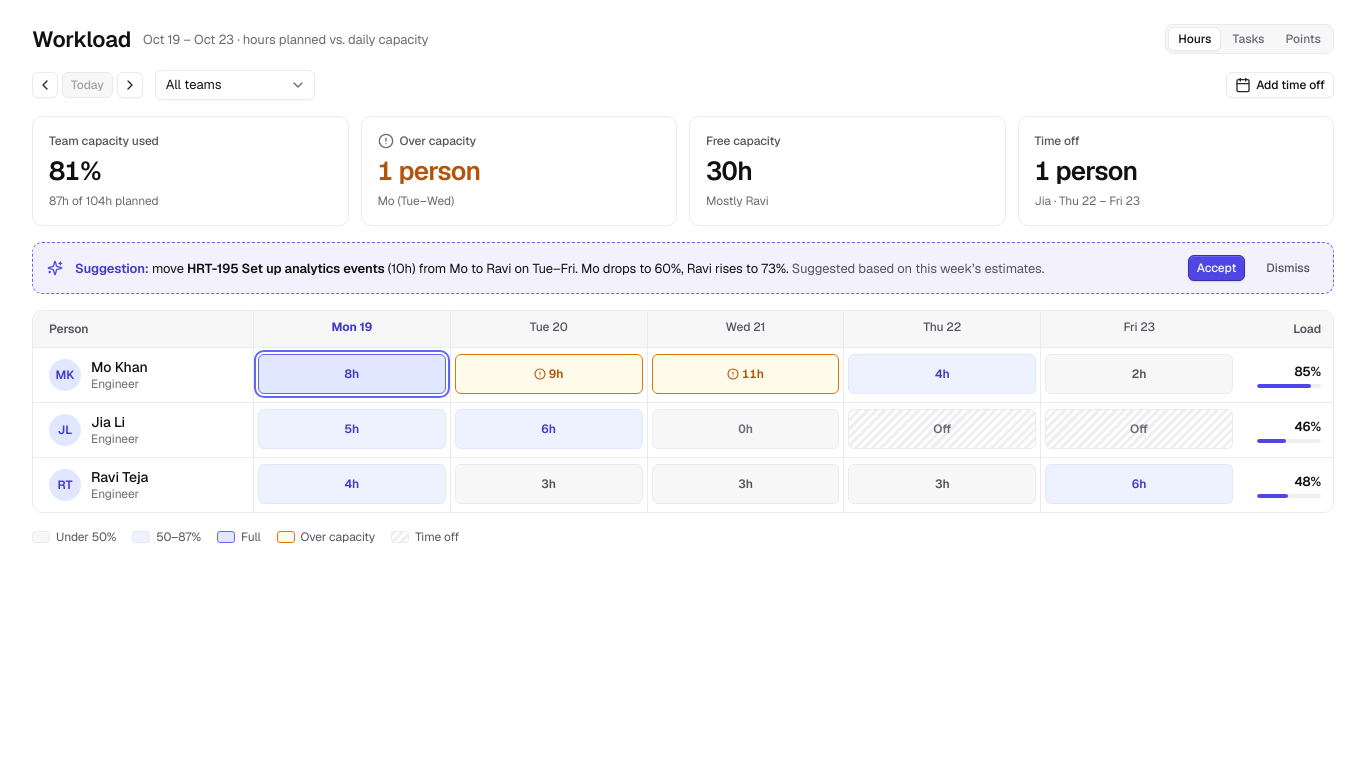
WorkloadPage › moves focus with arrow keys and opens the day’s tasks with Enter
Press ArrowRight in the button named "Mon 19: 8 of 8 hours planned", box [258,354,446,394]
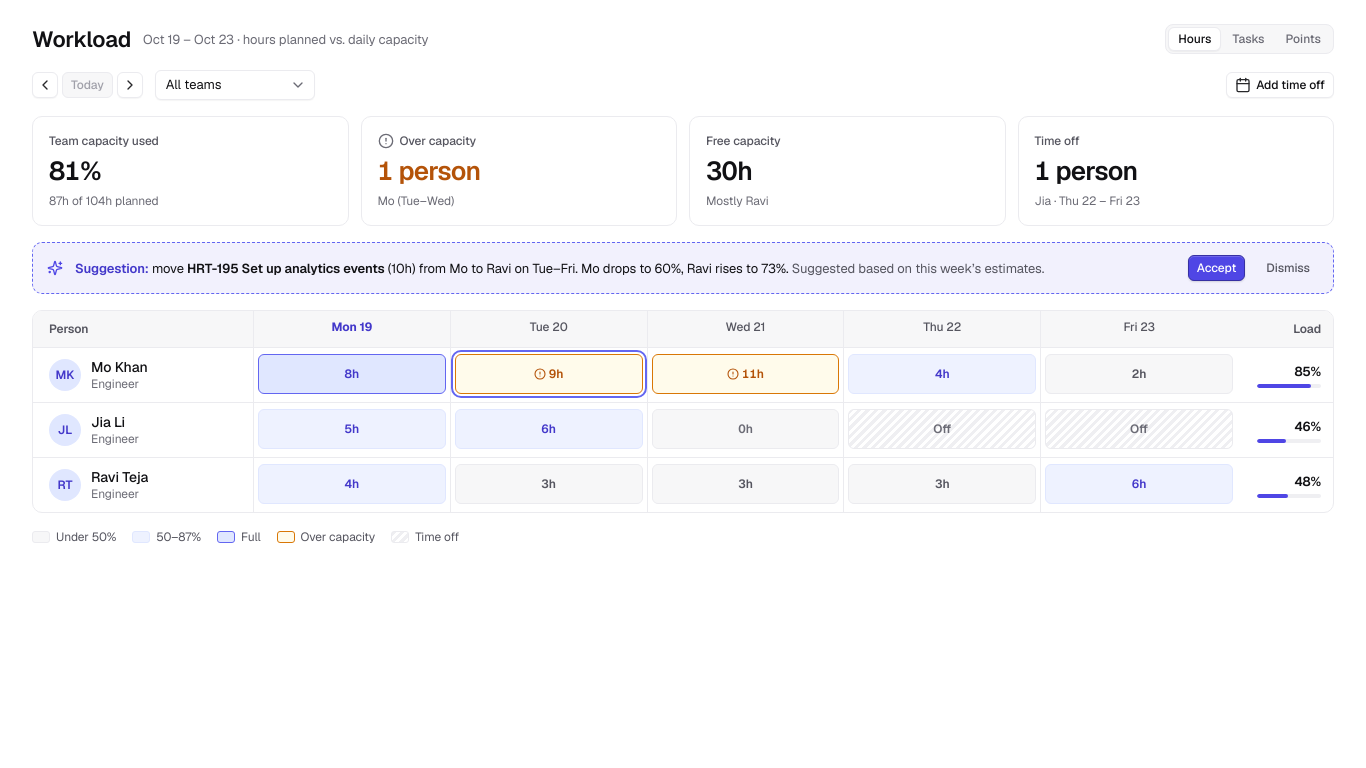
Press ArrowRight in the button "9h", box [455,354,643,394]
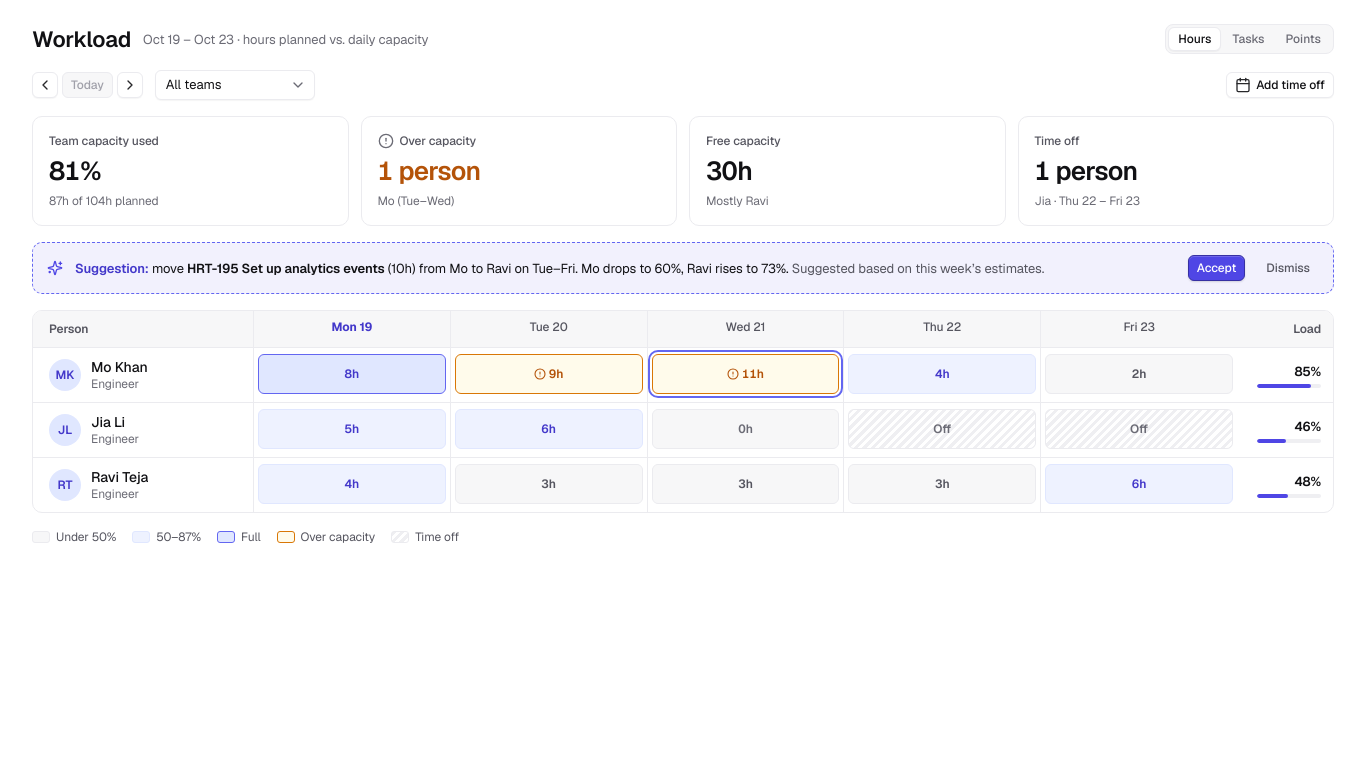
Press ArrowDown in the button named "Wed 21: 11 of 8", box [652,354,839,394]
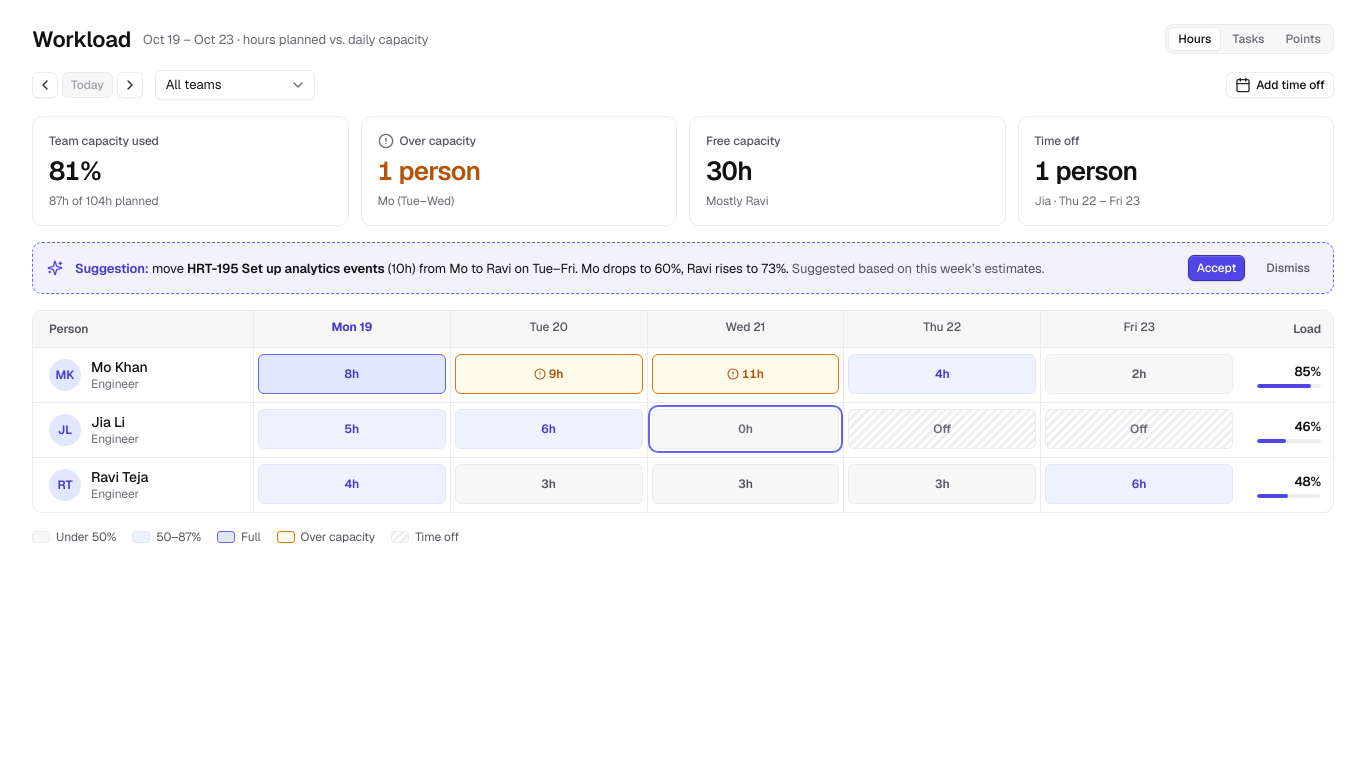
Press ArrowUp in the button named "Wed 21: 0 of 8 hours planned", box [652,409,839,449]
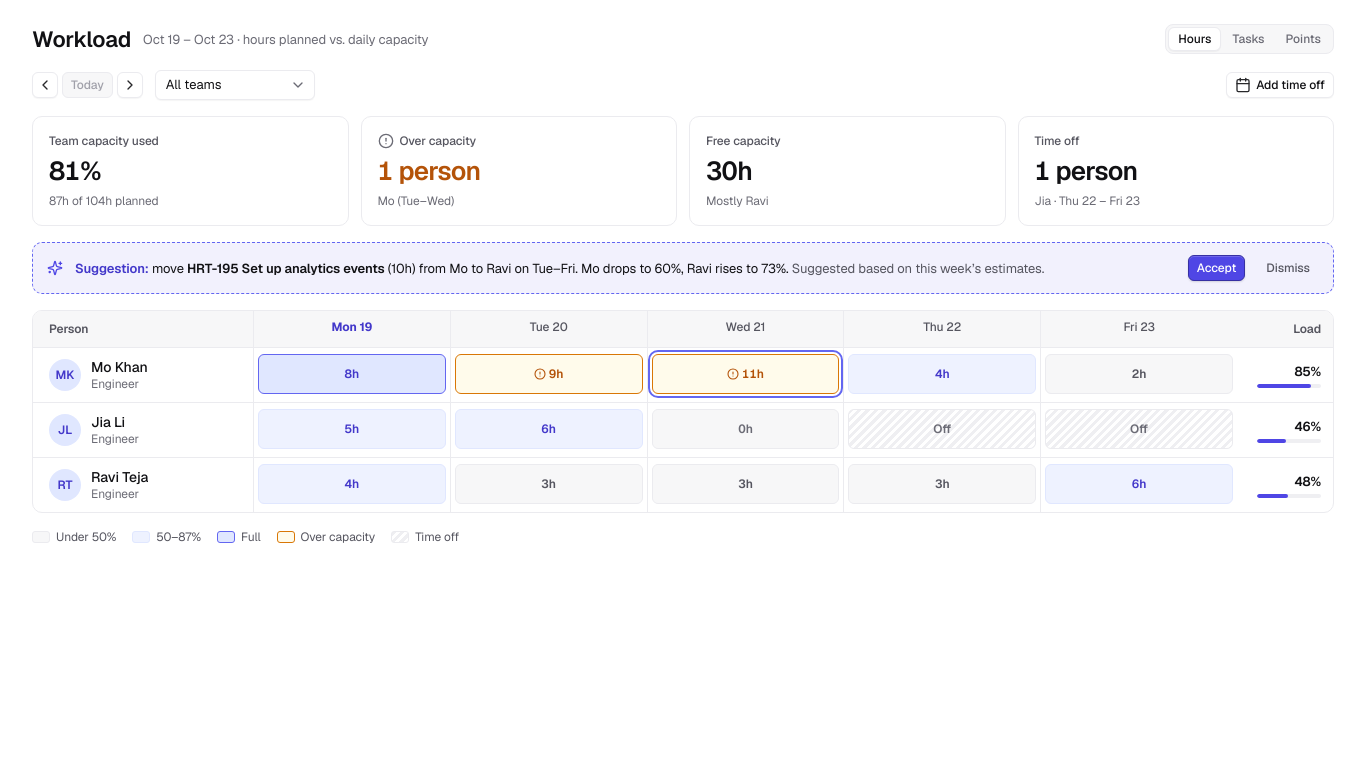
Click the button named "Wed 21: 11 of 8".
click(746, 374)  # box [652,354,839,394]
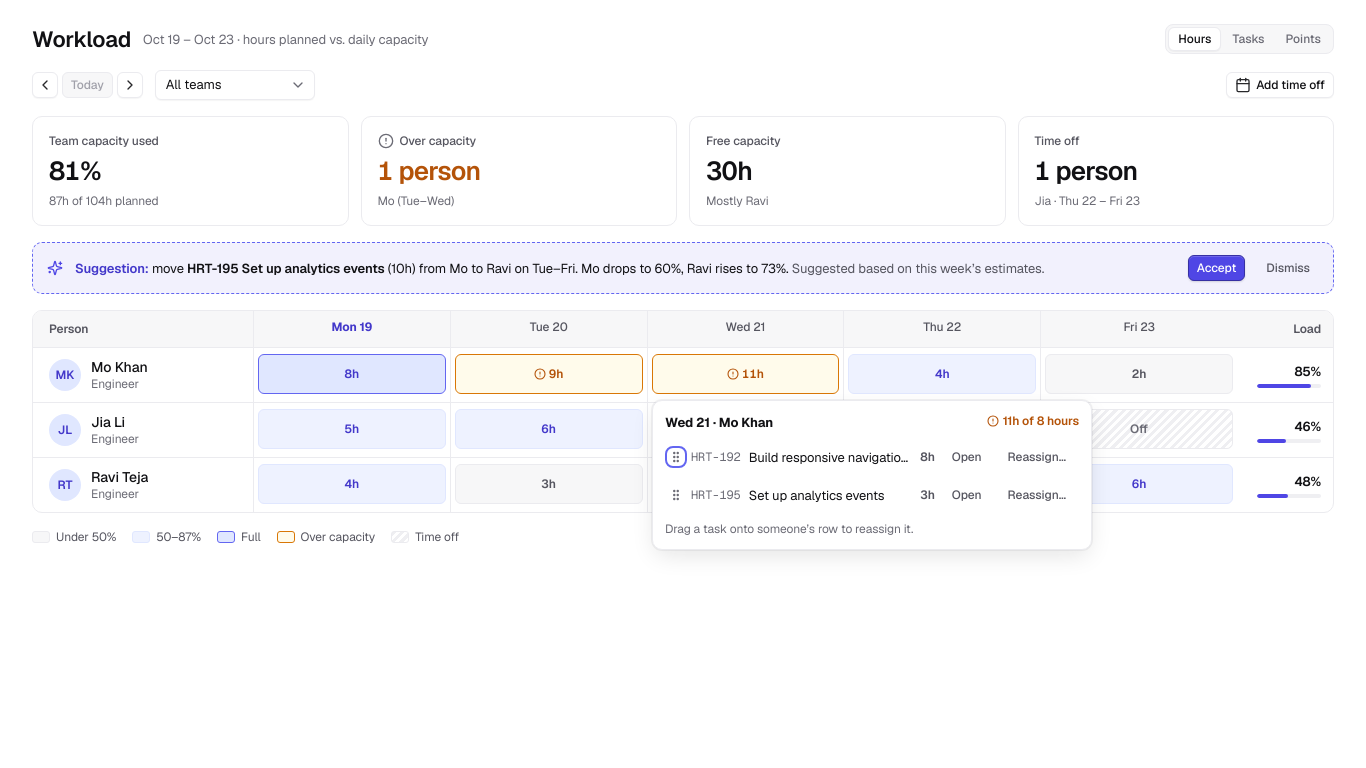
Expected: the text "HRT-192" is shown, [691,449,741,465]
Expected: the text "3h" is shown, [920,487,935,503]
Expected: the number of buttons "Reassign…" is 2, [999,444,1075,470]; [999,482,1075,508]
